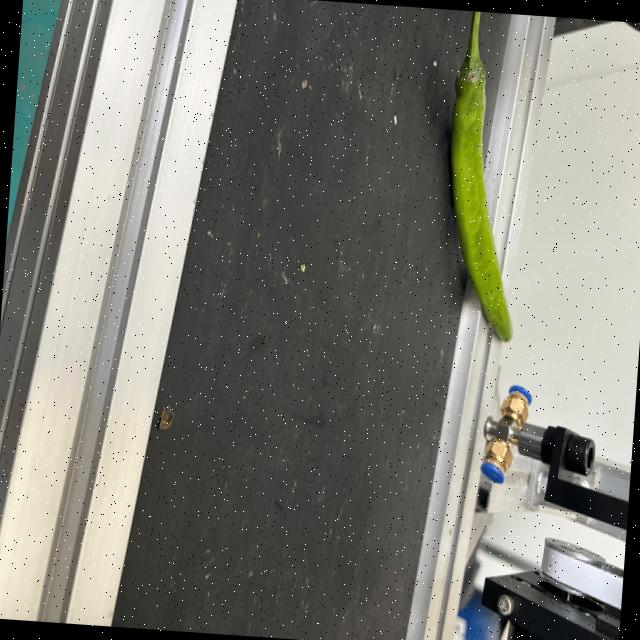chili: (447, 52, 514, 345)
